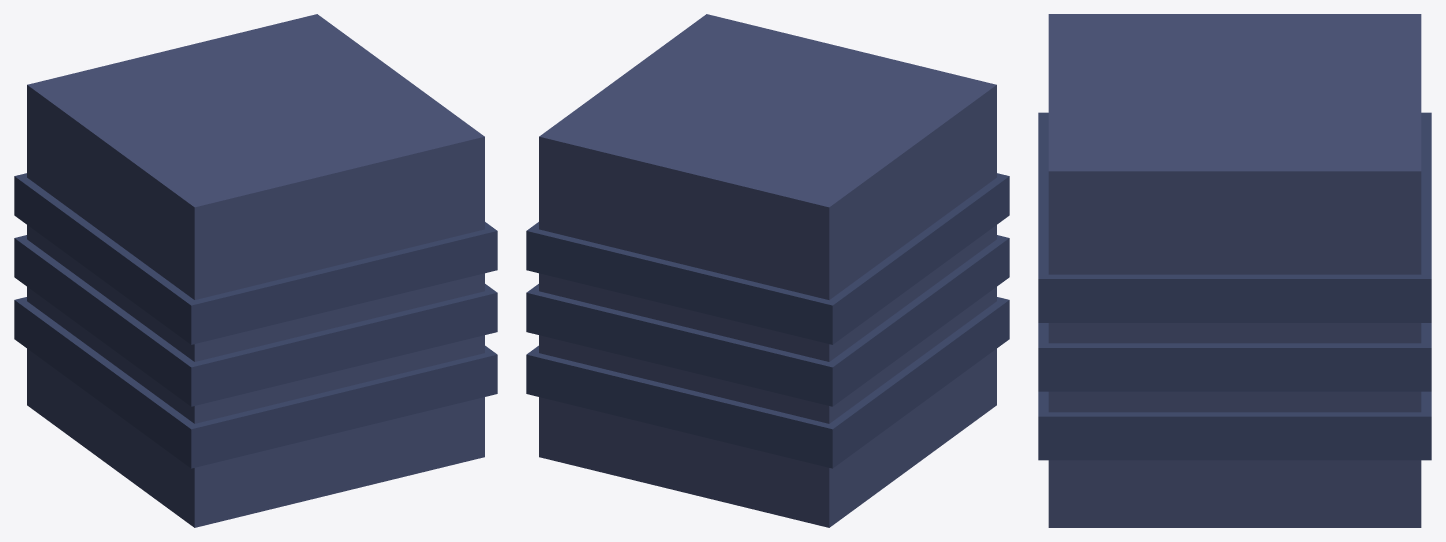
The model's file is ninja_canela.glb.
3 views of the same model, side by side, from view 1: azimuth 30°, elevation 25°; view 2: azimuth 150°, elevation 25°; view 3: azimuth 270°, elevation 25° (orthographic). The views are drawn at different scales.
Parts seen in each view (by area): view 1: ninja_canela; view 2: ninja_canela; view 3: ninja_canela.
Part boxes in pixels (x1=…): ninja_canela: x1=14, y1=14, x2=497, y2=527; ninja_canela: x1=526, y1=14, x2=1009, y2=527; ninja_canela: x1=1038, y1=14, x2=1431, y2=527.
Bounding box in the file's own units: 0.285 × 0.285 × 0.285.
